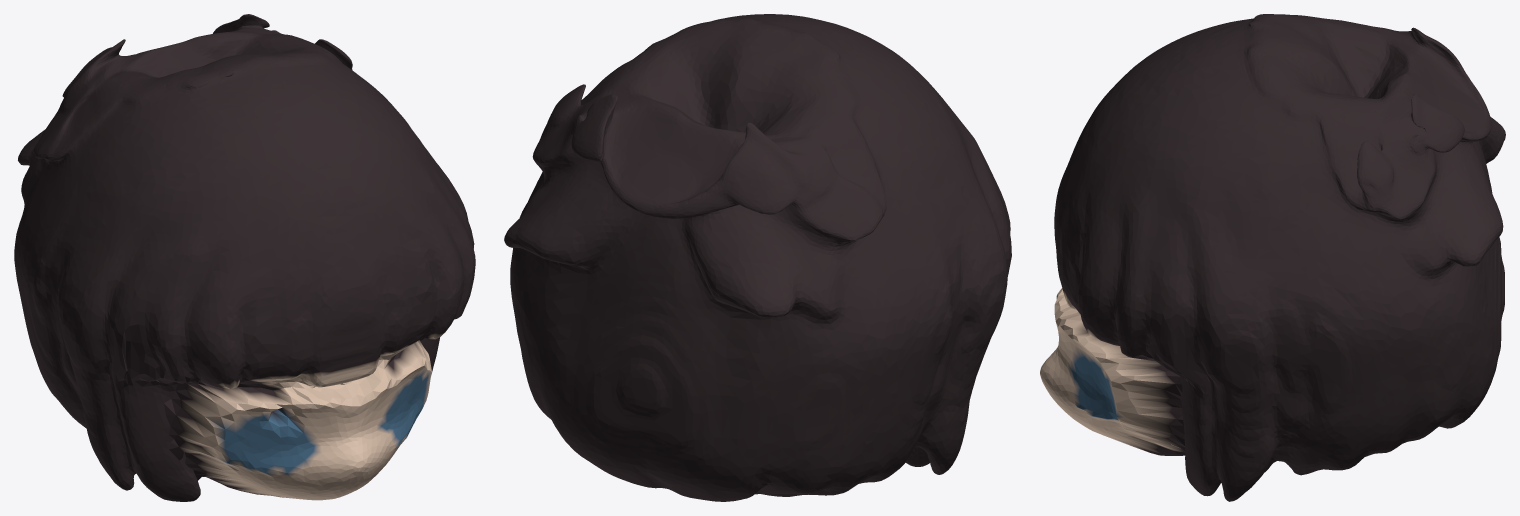
The model's file is head.glb.
The picture shows the model from 3 angles, left to right: view 1: azimuth 30°, elevation 25°; view 2: azimuth 150°, elevation 25°; view 3: azimuth 270°, elevation 25°; orthographic projection. The views are drawn at different scales.
Visible parts, largest first — view 1: geometry_0; view 2: geometry_0; view 3: geometry_0.
Part boxes in pixels (box(x1,y1,x2,y2)): geometry_0: box(14, 14, 475, 501); geometry_0: box(504, 14, 1011, 501); geometry_0: box(1040, 14, 1505, 501).
Size of the model in its own units: 0.8274 by 0.7915 by 0.8228.
